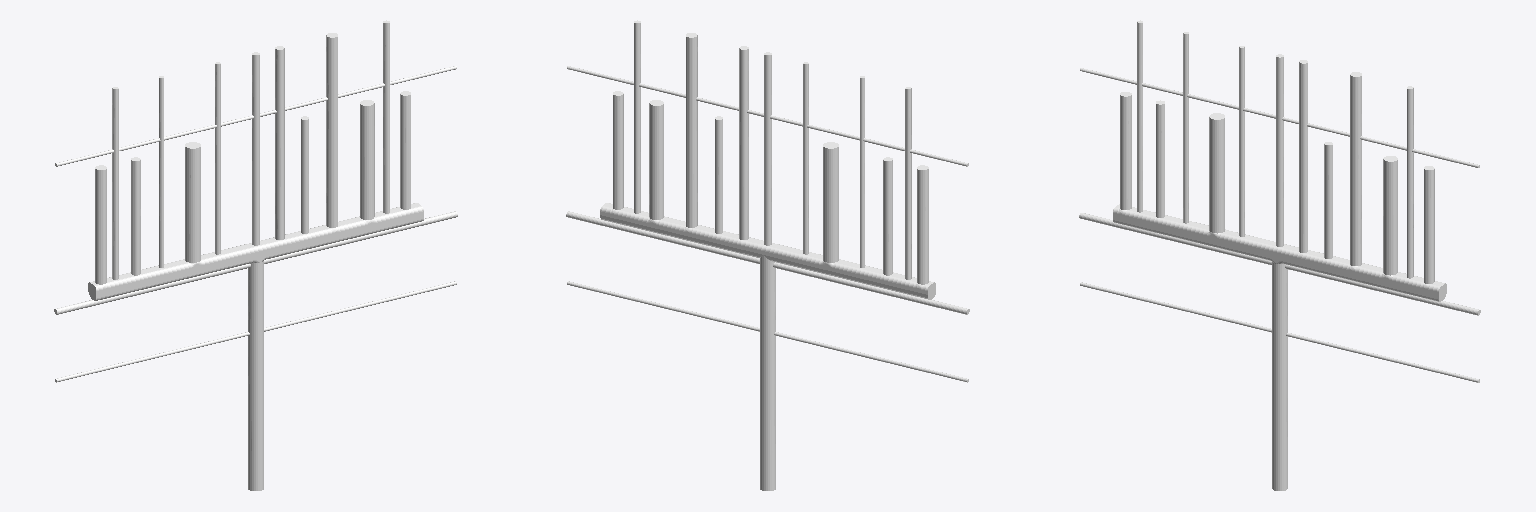
robot.urdf — Vine_tree.SLDPRT:
<robot
  name="Vine_tree.SLDPRT">
  <link
    name="Vine_tree.SLDPRT">
    <inertial>
      <origin
        xyz="0.0093635 -0.000182729999999959 0.67062"
        rpy="0 0 0" />
      <mass
        value="4.5863" />
      <inertia
        ixx="0.235213698453735"
        ixy="7.59868965808503E-06"
        ixz="0.0112948675025049"
        iyy="0.519665013279866"
        iyz="-5.42636426052345E-05"
        izz="0.285135944466359" />
    </inertial>
    <visual>
      <origin
        xyz="0 0 0"
        rpy="1.5707963267949 0 0" />
      <geometry>
        <mesh
          filename="package://Vine_tree.SLDPRT/meshes/visual/vine_tree.dae" />
      </geometry>
      <material
        name="">
        <color
          rgba="1 1 1 1" />
      </material>
    </visual>
    <collision>
      <origin
        xyz="0 0 0"
        rpy="1.5707963267949 0 0" />
      <geometry>
        <mesh
          filename="package://Vine_tree.SLDPRT/meshes/collision/vine_tree.stl" />
      </geometry>
    </collision>
  </link>
</robot>

--- Render facts (derived) ---
3 views of the same robot in one strip: view 1: azimuth 30°, elevation 25°; view 2: azimuth 150°, elevation 25°; view 3: azimuth 330°, elevation 25° (orthographic).
Robot: Vine_tree.SLDPRT — 1 links, 0 joints (none); root link Vine_tree.SLDPRT; default pose: every joint at zero.
Visible links, largest first — view 1: Vine_tree.SLDPRT; view 2: Vine_tree.SLDPRT; view 3: Vine_tree.SLDPRT.
Boxes of the visible links, x1,y1,x2,y2 form: Vine_tree.SLDPRT: [54, 20, 457, 490]; Vine_tree.SLDPRT: [566, 20, 969, 490]; Vine_tree.SLDPRT: [1079, 20, 1480, 490].
Bounding box of the posed robot: 1.1 × 0.04 × 1.14 m (x, y, z).
Meshes: 1 distinct files referenced, 1 mesh visuals loaded (1 Collada DAE).
